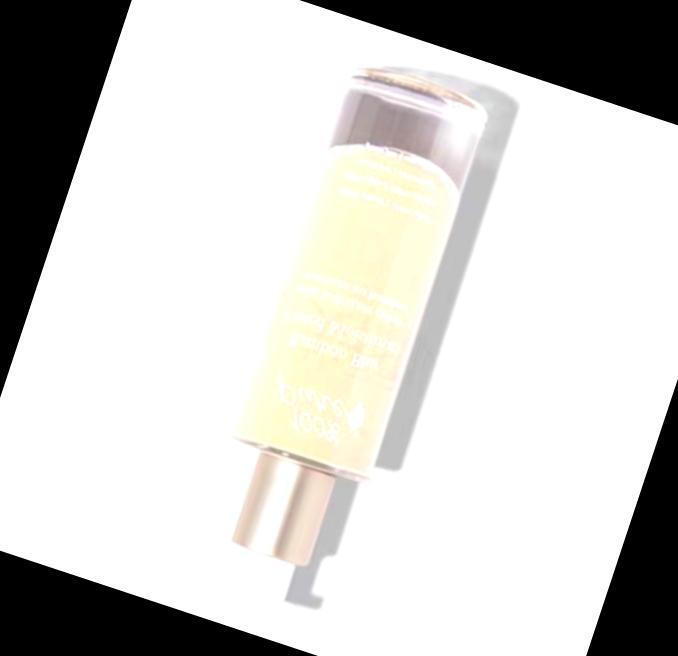cosmetic: (177, 65, 491, 629)
